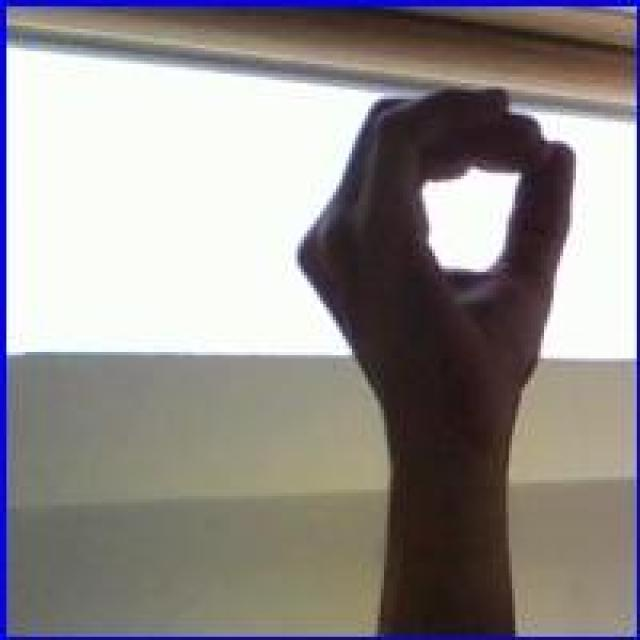O: (290, 83, 574, 442)
